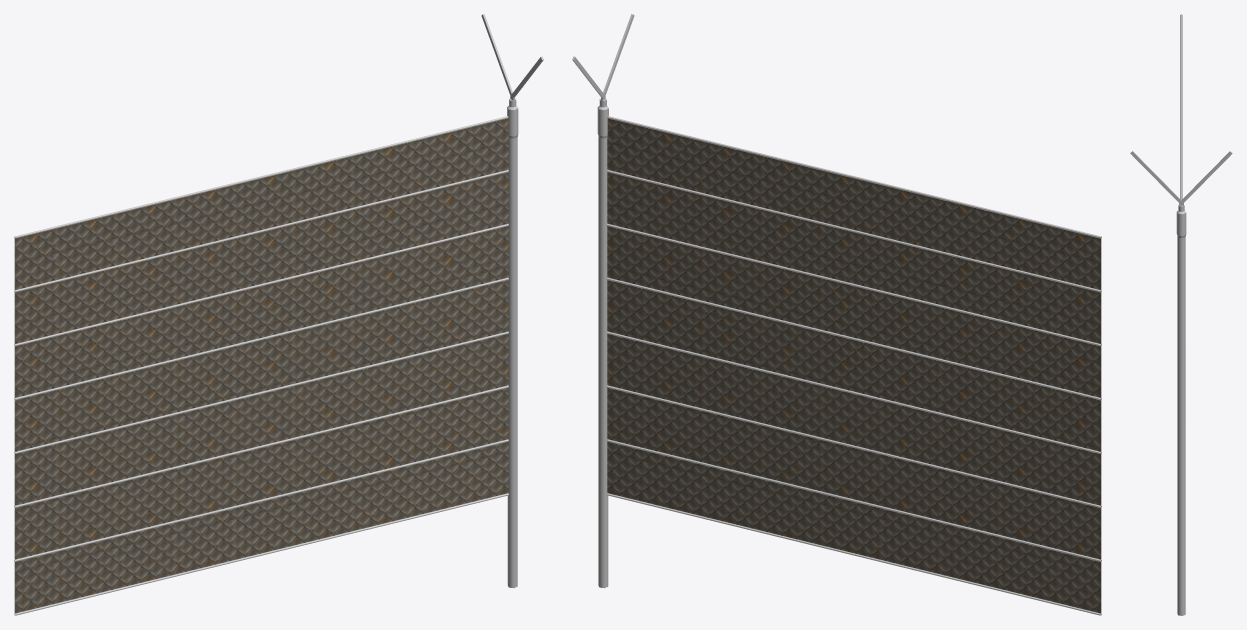
Rendered from Wire_Fence2_el1_LOD1.fbx.
3 renders of one model, left to right at view 1: azimuth 30°, elevation 25°; view 2: azimuth 150°, elevation 25°; view 3: azimuth 270°, elevation 25°, orthographic. The views are drawn at different scales.
Visible parts, largest first — view 1: polySurface327; view 2: polySurface327; view 3: polySurface327.
Boxes of the visible parts, box(x1,y1,x2,y2) form: polySurface327: box(14, 14, 543, 615); polySurface327: box(572, 14, 1101, 615); polySurface327: box(1130, 14, 1232, 615).
Size of the model in its own units: 5.05 by 5.28 by 1.06.
